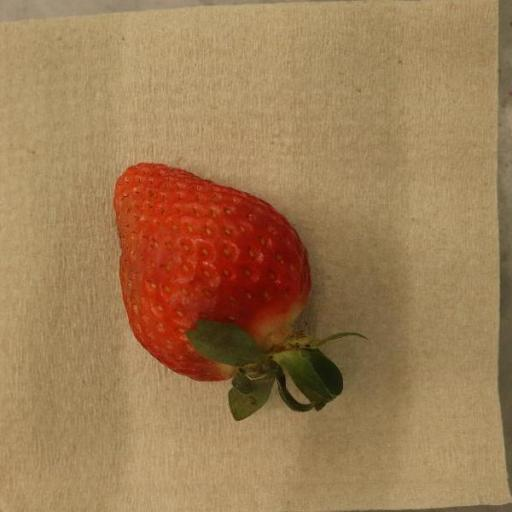Strawberry: (114, 163, 364, 423)
